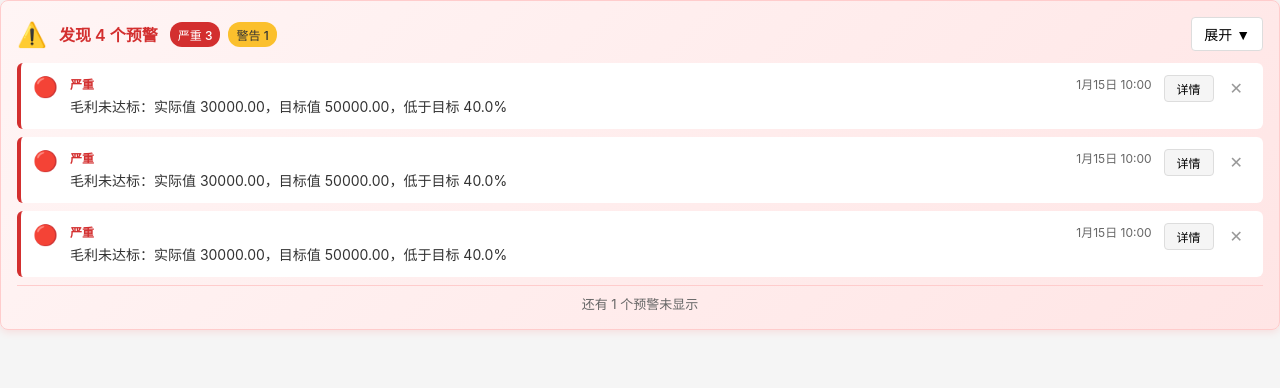
Scenario: AlertBanner › should expand to show all alerts when toggle is clicked
Click the button "展开 ▼".
click(1227, 34)  # box [1191,17,1263,51]
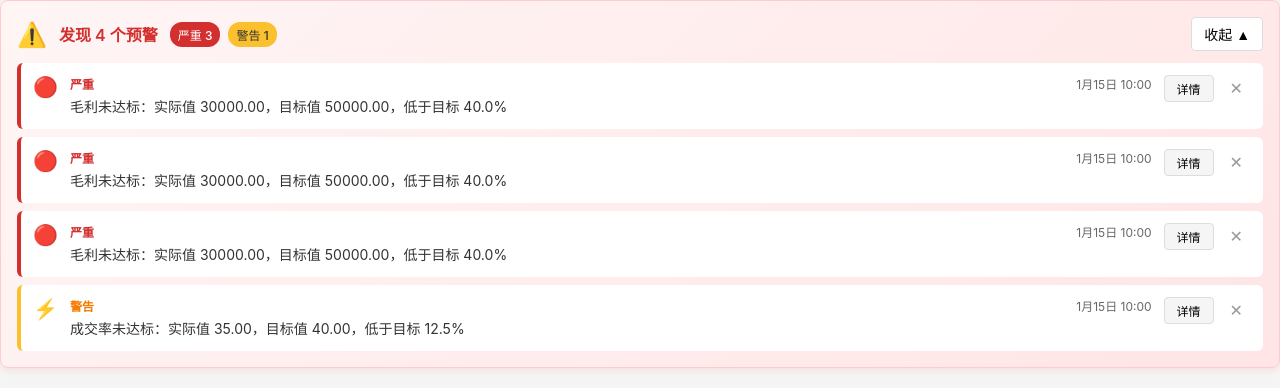
Check: the number of buttons "详情" is 4, box [1164,75,1214,102]; [1164,149,1214,176]; [1164,223,1214,250]; [1164,297,1214,324]
